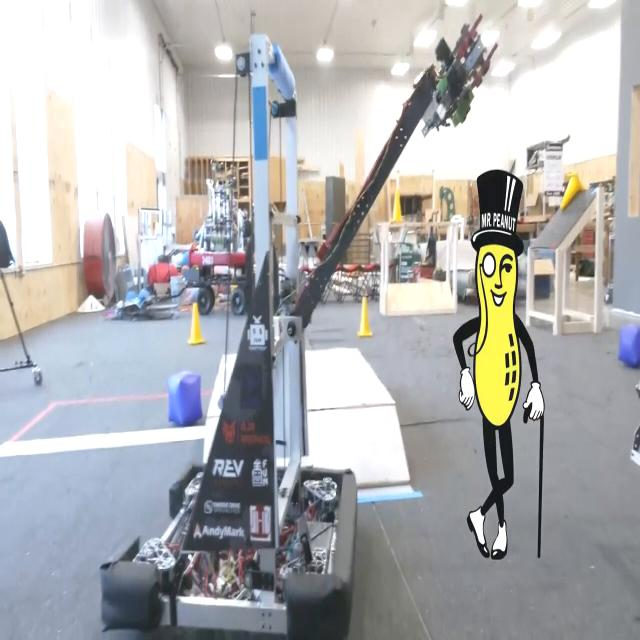frc_cone: (554, 156, 590, 220), (356, 293, 373, 350), (388, 182, 408, 230), (187, 301, 206, 350)
frc_cube: (163, 372, 203, 427), (620, 314, 640, 372)
